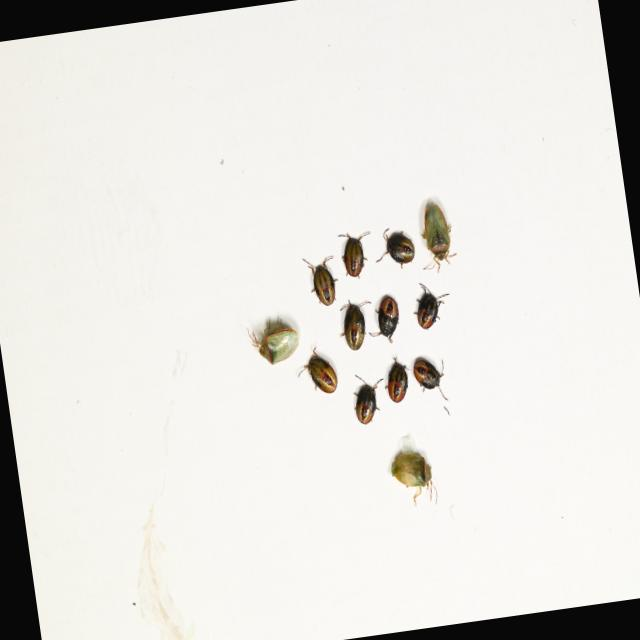stinkbug: (386, 443, 441, 515), (412, 201, 462, 278), (246, 313, 304, 372)
